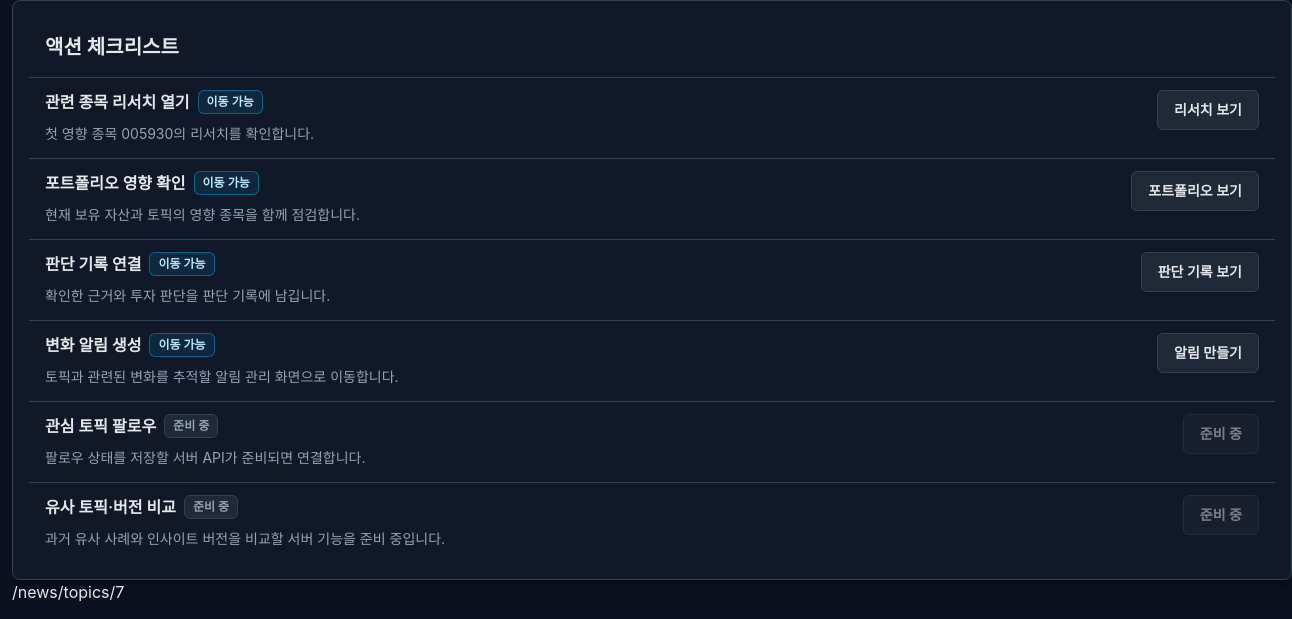
Test: TopicActionChecklist › 판단 기록 보기 액션을 기존 경로로 연결한다
Click the button "판단 기록 보기" at (1200, 272), box left=1141, top=252, right=1259, bottom=292
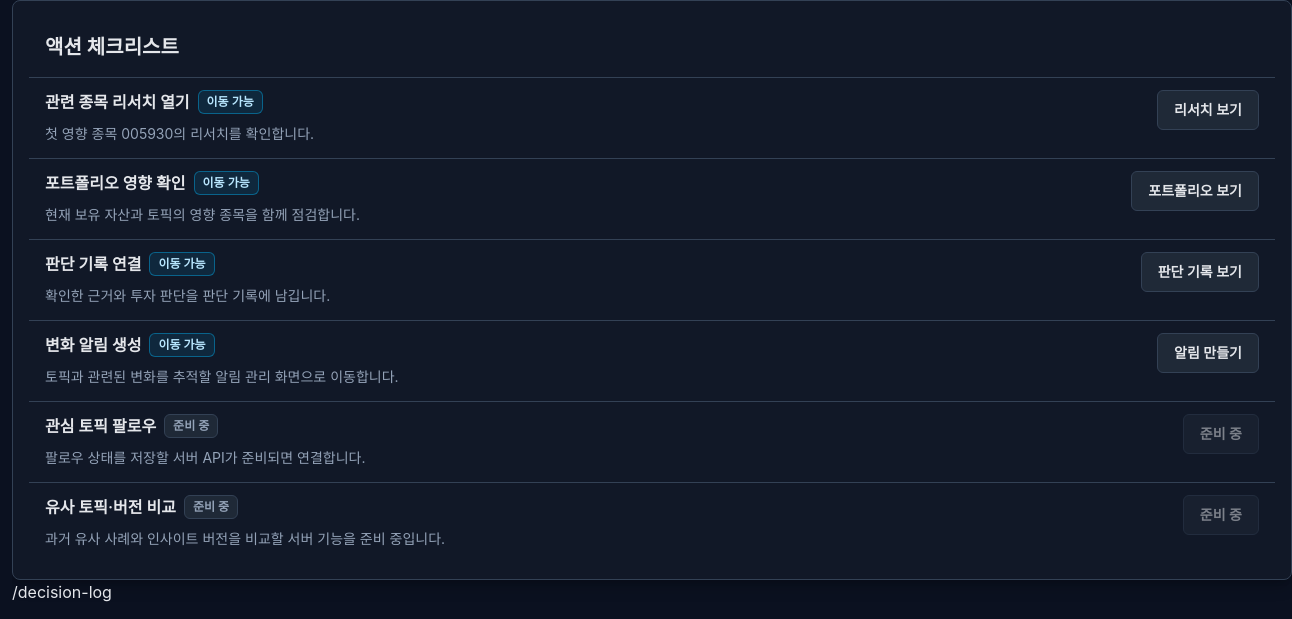
Now the text named "현재 경로" reads "/decision-log", box left=12, top=582, right=112, bottom=602
